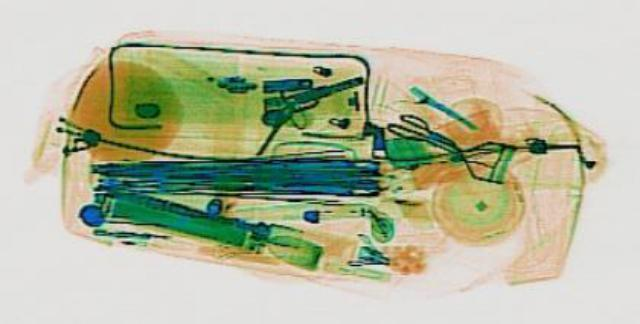Scissors: (376, 108, 470, 150)
